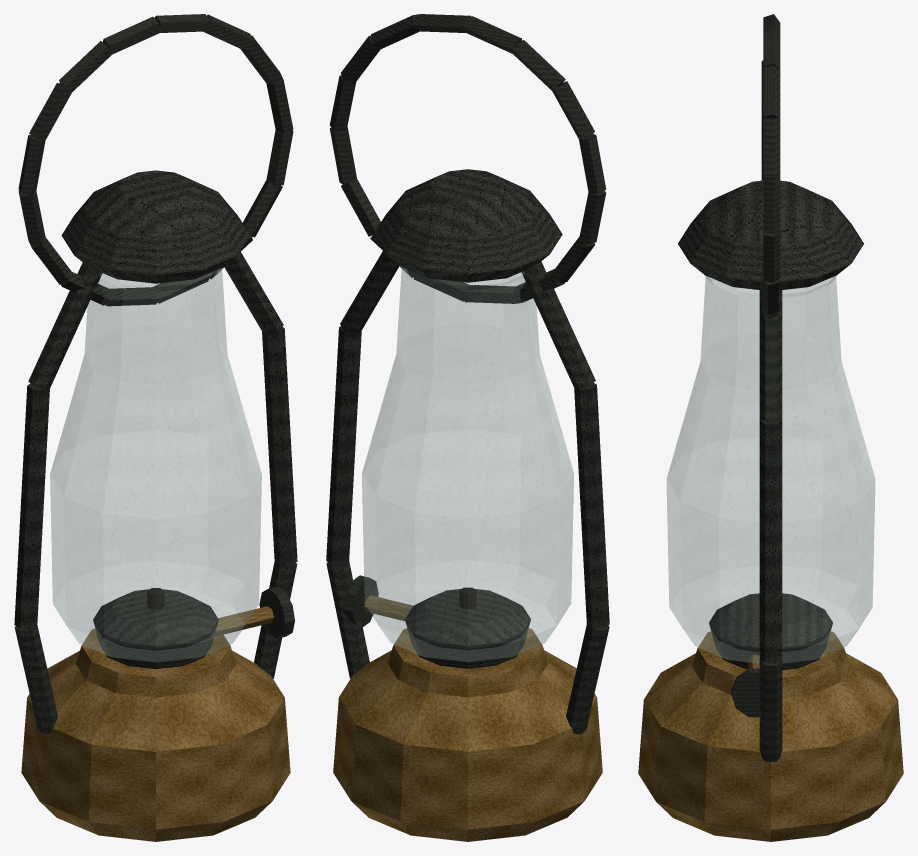
Rendered from blender_firelight_3.glb.
3 views of the same model, side by side, from view 1: azimuth 30°, elevation 25°; view 2: azimuth 150°, elevation 25°; view 3: azimuth 270°, elevation 25° (orthographic).
Visible parts, largest first — view 1: blender_firelight_3; view 2: blender_firelight_3; view 3: blender_firelight_3.
Boxes of the visible parts, x1=… form: blender_firelight_3: x1=14, y1=14, x2=297, y2=841; blender_firelight_3: x1=326, y1=14, x2=609, y2=841; blender_firelight_3: x1=638, y1=14, x2=903, y2=841.
Bounding box in the file's own units: 0.1118 × 0.2991 × 0.094.
4 materials, 4 textured.
